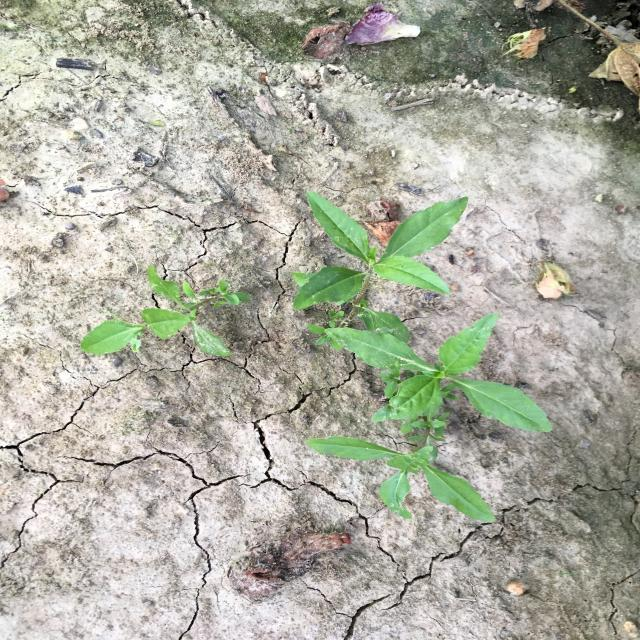Eclipta: (302, 310, 555, 525), (290, 188, 470, 353), (77, 264, 253, 358)
